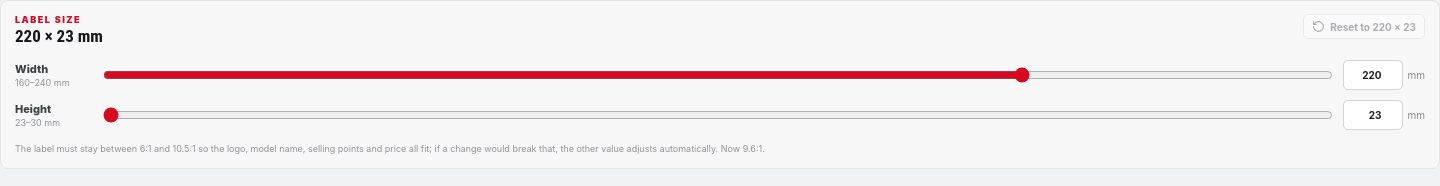
it: label size controls › clamps a number typed outside the fixed limits
The image size is (1440, 186).
Replace the text in the number field named "Width in millimetres" with "999" at (1373, 75), box [1343,60,1404,90]
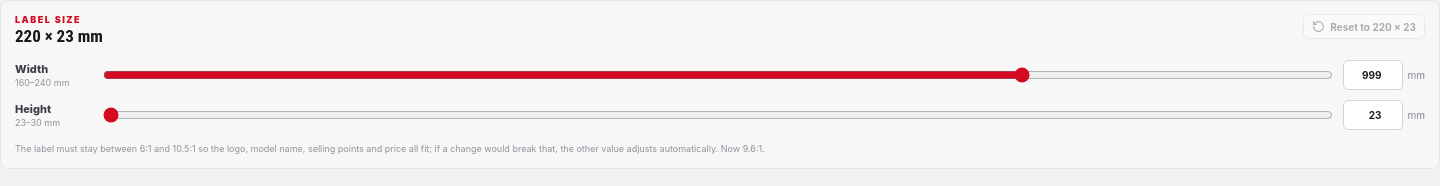
Leave the number field named "Width in millimetres", box [1343,60,1404,90]
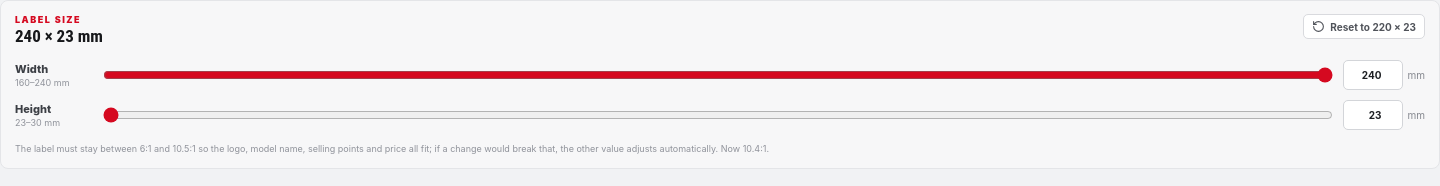
Expected: the number field named "Width in millimetres" holds "240"
Replace the text in the number field named "Width in millimetres" with "100" at (1373, 75), box [1343,60,1404,90]
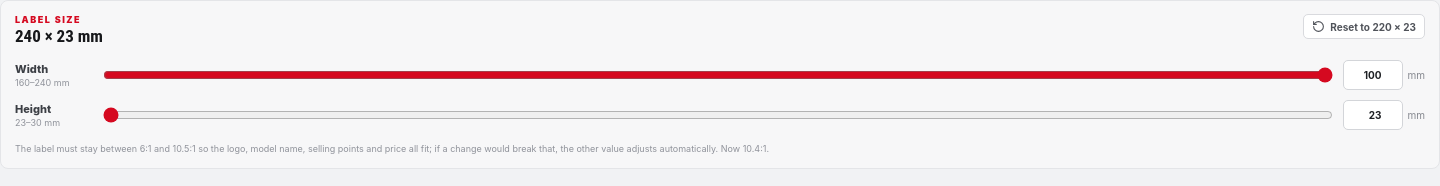
Leave the number field named "Width in millimetres", box [1343,60,1404,90]
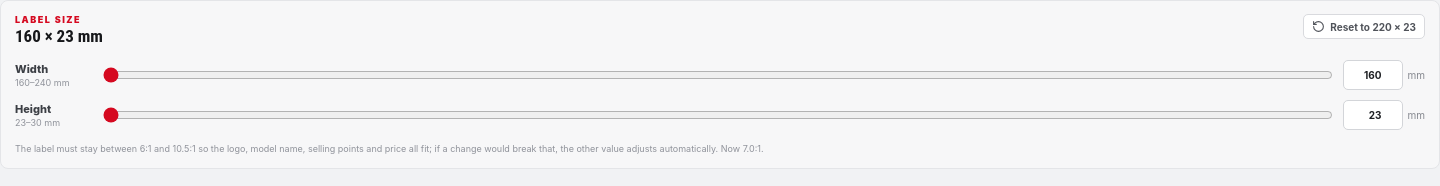
Expected: the number field named "Width in millimetres" holds "160", [1343,60,1404,90]
